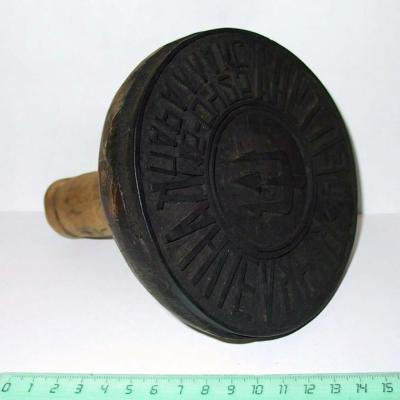other: (43, 28, 364, 346)
